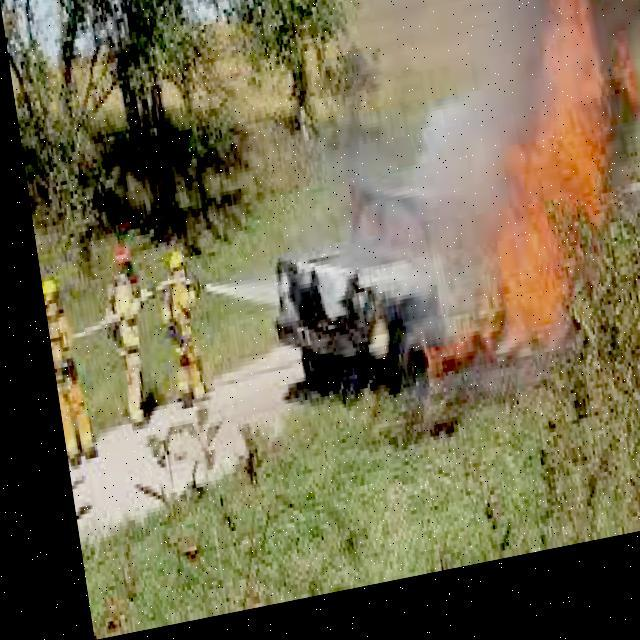Fire: (346, 174, 529, 420), (487, 0, 639, 256)
